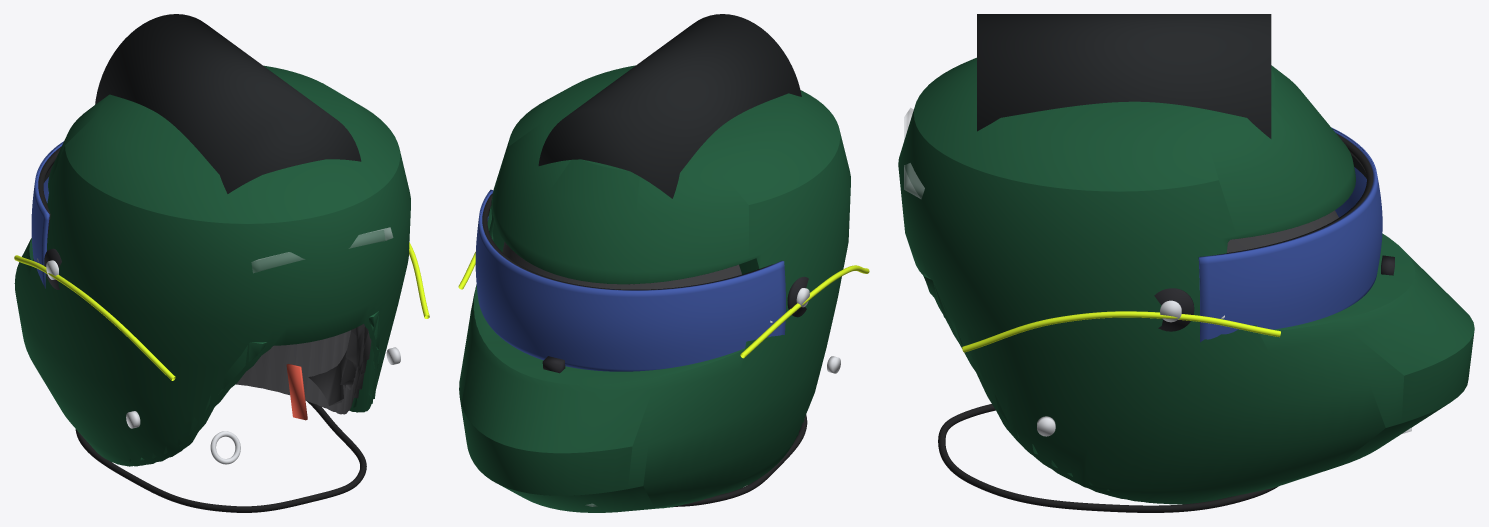
The model's file is racing_helmet_exploded.glb.
3 views of the same model, side by side, from view 1: azimuth 30°, elevation 25°; view 2: azimuth 150°, elevation 25°; view 3: azimuth 270°, elevation 25° (orthographic). The views are drawn at different scales.
Parts seen in each view (by area): view 1: Part_OuterShell, Part_Crown_Carbon_Weave, Part_InnerEPS, Part_Neck_Rubber_Seal, Part_Visor, Livery_Stripe_Flank_Left, Part_Rear_Kamm_Spoiler, Part_Chinstrap_Right, Part_Double_D_Ring_Buckle; view 2: Part_OuterShell, Part_Visor, Part_Crown_Carbon_Weave, Part_InnerEPS, Part_Neck_Rubber_Seal, Livery_Stripe_Flank_Left, Part_Eyeport_Gasket; view 3: Part_OuterShell, Part_Crown_Carbon_Weave, Part_Visor, Part_Neck_Rubber_Seal, Livery_Stripe_Flank_Right, Part_InnerEPS, Part_Pivot_Plate_Right, Part_Eyeport_Gasket.
Boxes of the visible parts, x1=… form: Part_OuterShell: x1=14, y1=65, x2=410, y2=466; Part_Crown_Carbon_Weave: x1=95, y1=14, x2=361, y2=193; Part_InnerEPS: x1=236, y1=324, x2=371, y2=414; Part_Neck_Rubber_Seal: x1=75, y1=400, x2=366, y2=512; Part_Visor: x1=31, y1=141, x2=63, y2=288; Livery_Stripe_Flank_Left: x1=14, y1=255, x2=175, y2=380; Part_Rear_Kamm_Spoiler: x1=251, y1=227, x2=393, y2=272; Part_Chinstrap_Right: x1=286, y1=364, x2=307, y2=420; Part_Double_D_Ring_Buckle: x1=210, y1=431, x2=240, y2=464; Part_OuterShell: x1=459, y1=65, x2=850, y2=512; Part_Visor: x1=475, y1=189, x2=785, y2=371; Part_Crown_Carbon_Weave: x1=538, y1=14, x2=801, y2=198; Part_InnerEPS: x1=502, y1=242, x2=741, y2=289; Part_Neck_Rubber_Seal: x1=673, y1=414, x2=807, y2=506; Livery_Stripe_Flank_Left: x1=740, y1=265, x2=869, y2=358; Part_Eyeport_Gasket: x1=482, y1=193, x2=772, y2=290; Part_OuterShell: x1=898, y1=57, x2=1474, y2=504; Part_Crown_Carbon_Weave: x1=977, y1=14, x2=1271, y2=138; Part_Visor: x1=1198, y1=127, x2=1382, y2=342; Part_Neck_Rubber_Seal: x1=938, y1=404, x2=1278, y2=512; Livery_Stripe_Flank_Right: x1=962, y1=311, x2=1280, y2=352; Part_InnerEPS: x1=1227, y1=210, x2=1338, y2=252; Part_Pivot_Plate_Right: x1=1154, y1=288, x2=1194, y2=331; Part_Eyeport_Gasket: x1=1212, y1=133, x2=1373, y2=255.
Bounding box in the file's own units: 0.2613 × 0.3081 × 0.37.
